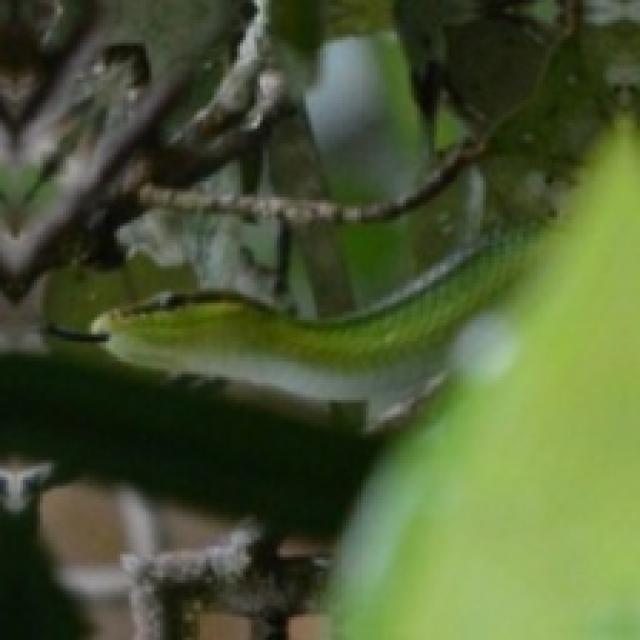red-tailed green ratsnake: (92, 228, 532, 431)
